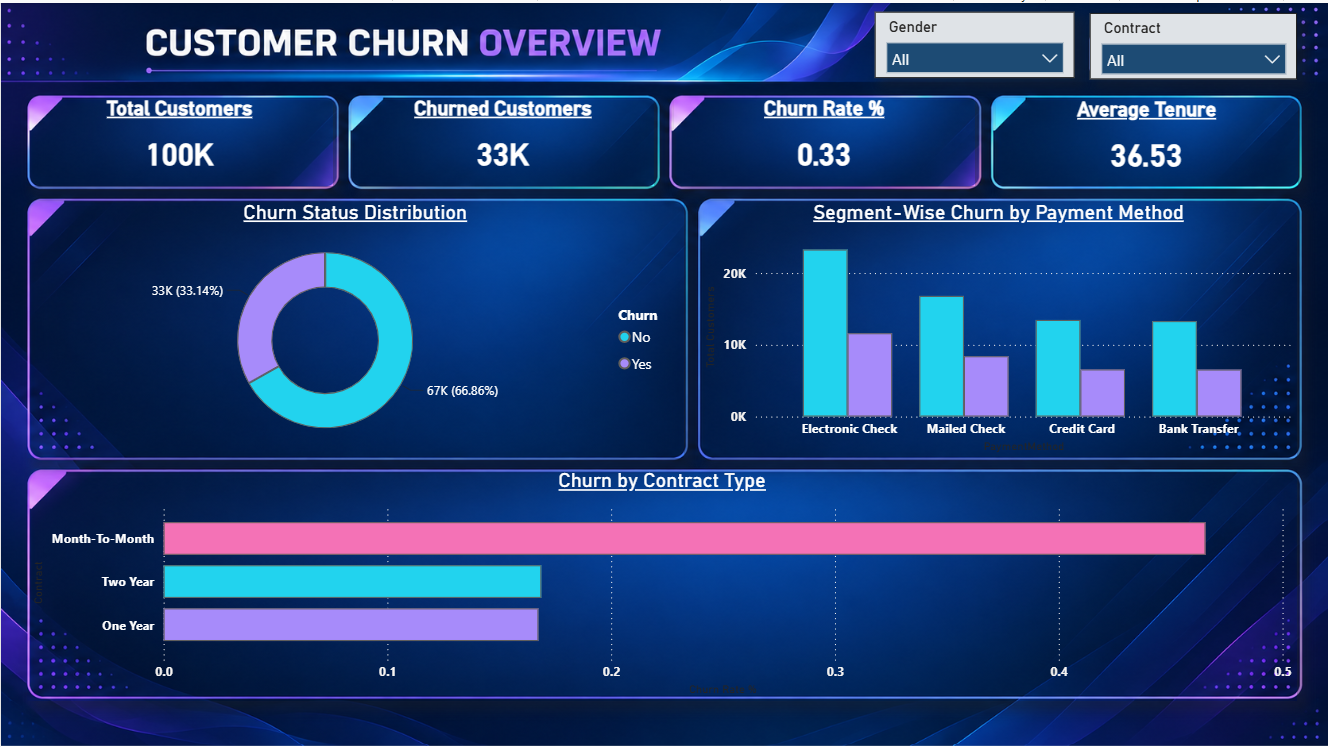

The dashboard page shown, as its layout file describes it:
{"tool":"powerbi","page":{"name":"Page 1","canvas":[1280,720],"ordinal":0},"visuals":[{"type":"card","title":"Total Customers","fields":{"Values":["Cleaned_Churn_Data.Total Customers"]},"box":[24.7,90.6,296.4,86.4],"z":0},{"type":"card","title":"Churned Customers","fields":{"Values":["Cleaned_Churn_Data.Churned Customers"]},"box":[338.9,90.6,290.9,86.4],"z":1000},{"type":"card","title":"Churn Rate %","fields":{"Values":["Cleaned_Churn_Data.Churn Rate %"]},"box":[649.1,90.6,290.9,86.4],"z":2000},{"type":"card","title":"Average Tenure","fields":{"Values":["Cleaned_Churn_Data.Avg Tenure"]},"box":[960.6,91.9,290.9,86.4],"z":3000},{"type":"slicer","fields":{"Values":["Cleaned_Churn_Data.Gender"]},"box":[843.3,8.4,193,63.9],"z":4000},{"type":"slicer","fields":{"Values":["Cleaned_Churn_Data.Contract"]},"box":[1050.8,9.7,200.3,63.9],"z":5000},{"type":"donutChart","title":"Churn Status Distribution","fields":{"Category":["Cleaned_Churn_Data.Churn"],"Y":["Cleaned_Churn_Data.Total Customers"]},"box":[25.3,190.6,633.4,248.5],"z":6000},{"type":"clusteredBarChart","title":"Churn by Contract Type","fields":{"Category":["Cleaned_Churn_Data.Contract"],"Y":["Cleaned_Churn_Data.Churn Rate %"]},"box":[25.3,450,1225.7,223.2],"z":7000},{"type":"clusteredColumnChart","title":"Segment-Wise Churn by Payment Method","fields":{"Category":["Cleaned_Churn_Data.PaymentMethod"],"Y":["Cleaned_Churn_Data.Total Customers"],"Series":["Cleaned_Churn_Data.Churn"]},"box":[674.4,190.6,576.7,248.5],"z":8000}]}

Visuals, with their boxes in screenshot pixels (x1, y1, x2, y2), scaled from the page's 1280x720 canvas onto the 1328x747 screenshot:
"Total Customers" card: 26, 94, 333, 184
"Churned Customers" card: 352, 94, 653, 184
"Churn Rate %" card: 673, 94, 975, 184
"Average Tenure" card: 997, 95, 1298, 185
slicer - Cleaned_Churn_Data.Gender: 875, 9, 1075, 75
slicer - Cleaned_Churn_Data.Contract: 1090, 10, 1298, 76
"Churn Status Distribution" donutChart: 26, 198, 683, 456
"Churn by Contract Type" clusteredBarChart: 26, 467, 1298, 698
"Segment-Wise Churn by Payment Method" clusteredColumnChart: 700, 198, 1298, 456
